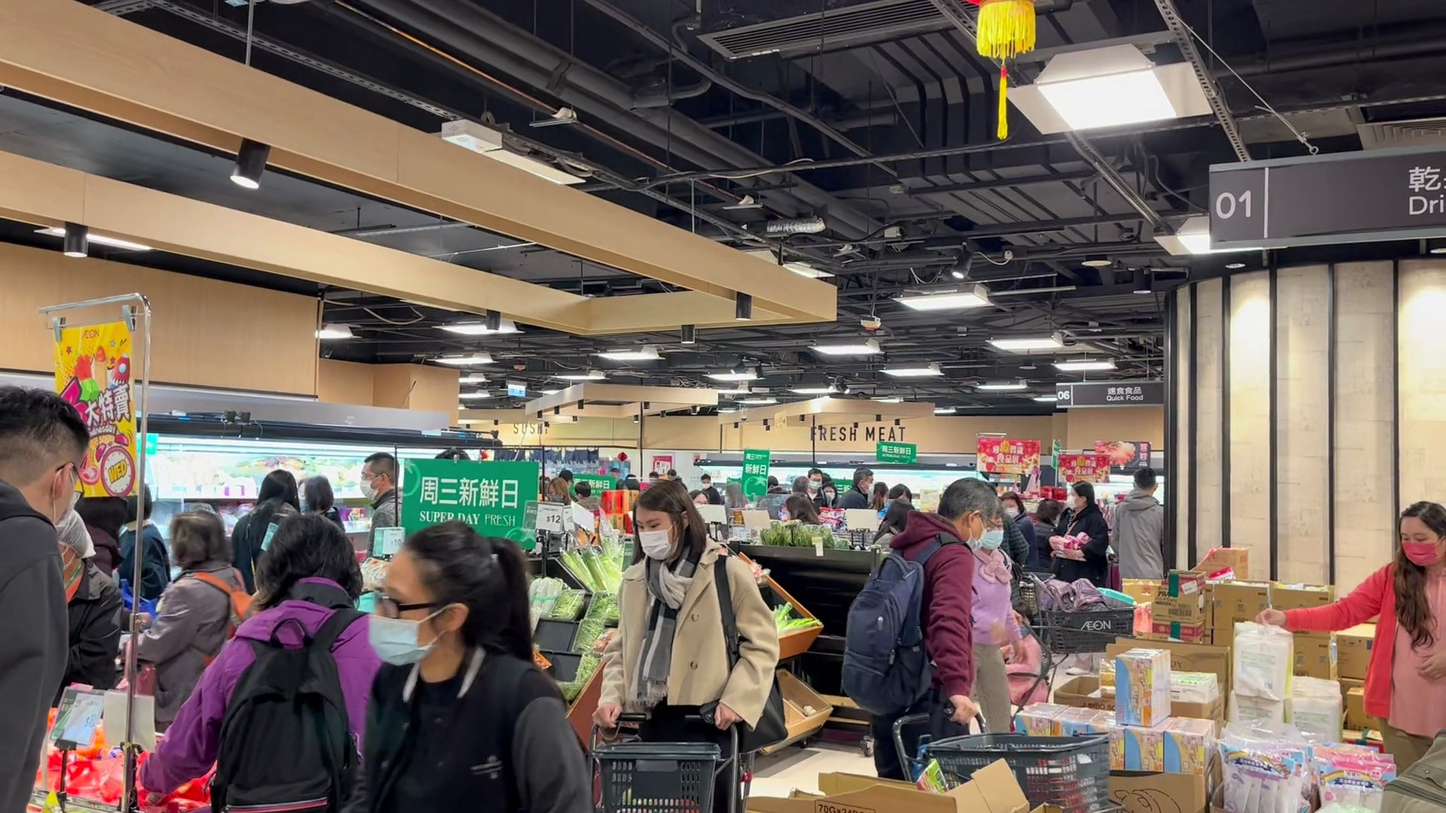dates_box: (217, 0, 1005, 549), (921, 0, 1446, 334), (1037, 0, 1446, 276), (266, 594, 620, 813), (881, 242, 1176, 435)
electronics: (771, 98, 1445, 813), (700, 165, 1218, 813), (814, 131, 1208, 813), (962, 290, 1445, 813), (1253, 0, 1446, 809), (1153, 356, 1445, 813), (1, 486, 332, 813)
wallet: (1201, 42, 1446, 274)
watch: (1, 0, 530, 798), (1, 25, 373, 813), (820, 0, 1327, 560), (0, 128, 270, 813), (21, 450, 416, 813), (601, 545, 894, 813), (1034, 204, 1254, 336)
